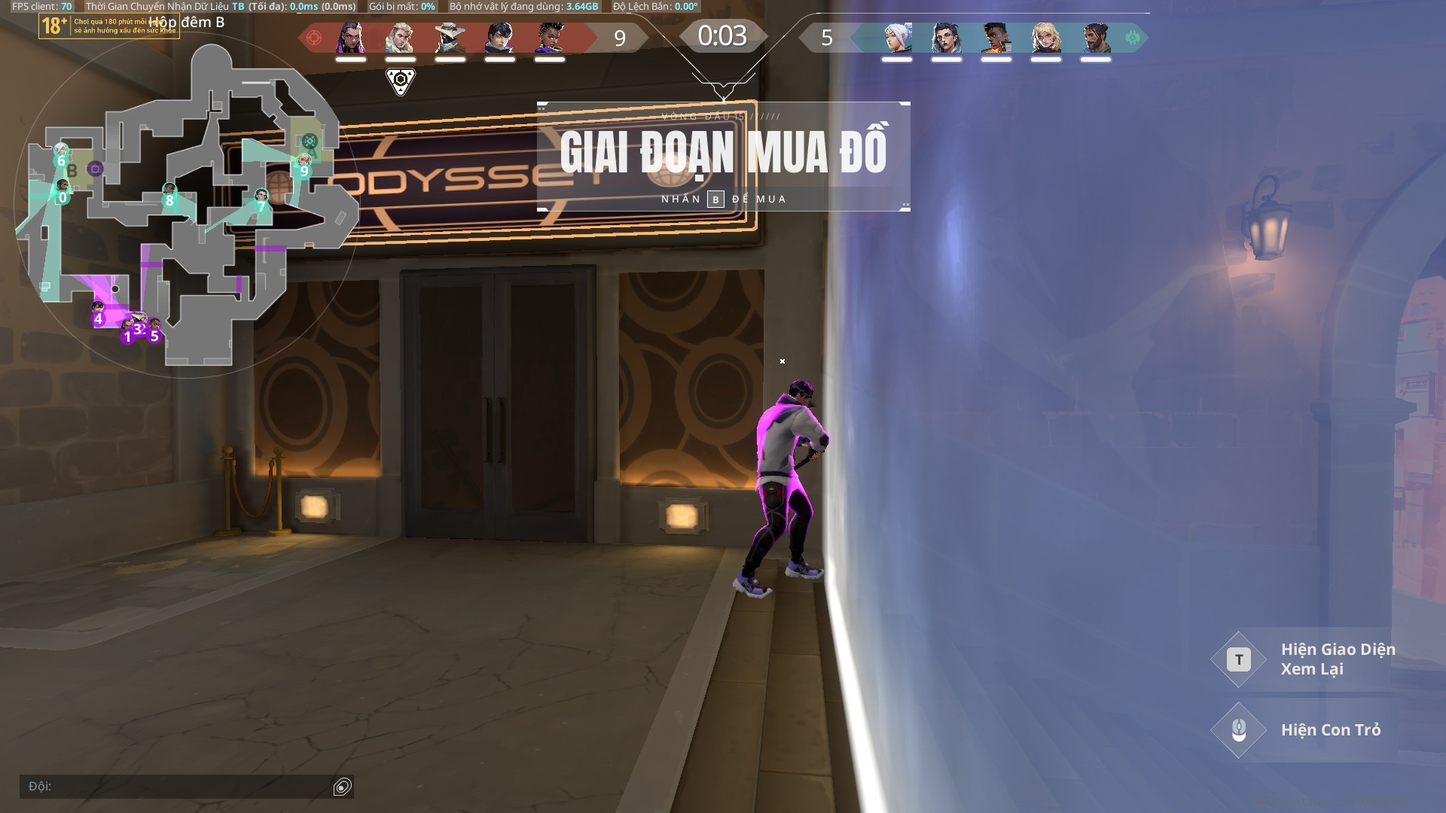body: (755, 402, 808, 475)
head: (788, 377, 816, 404)
